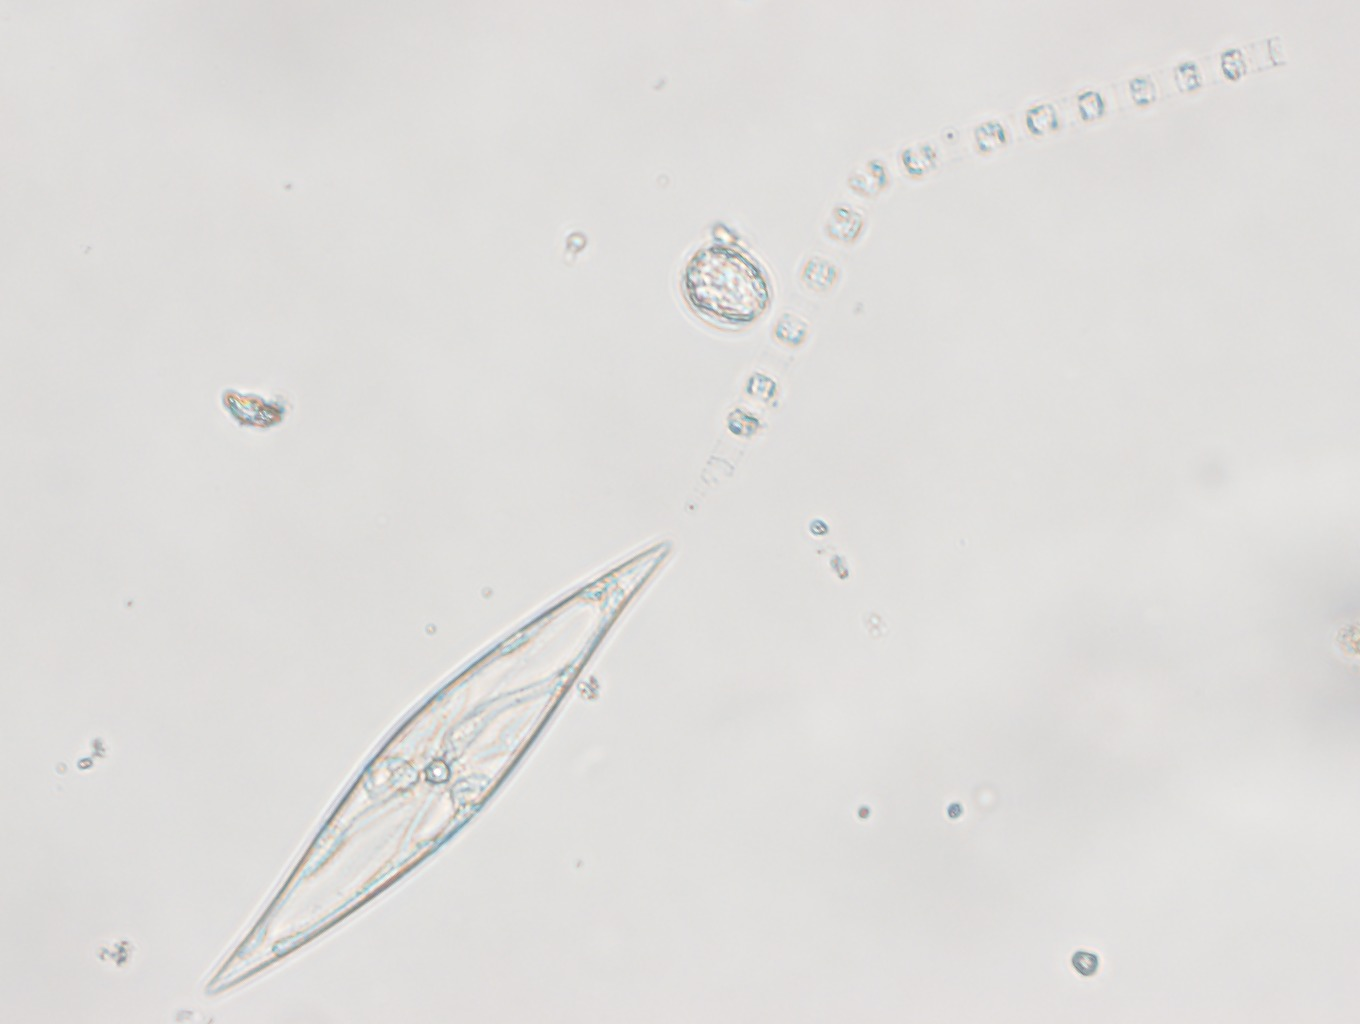pleurosigma pelagicum: (203, 534, 671, 1000)
skeletonema: (687, 35, 1282, 520)
